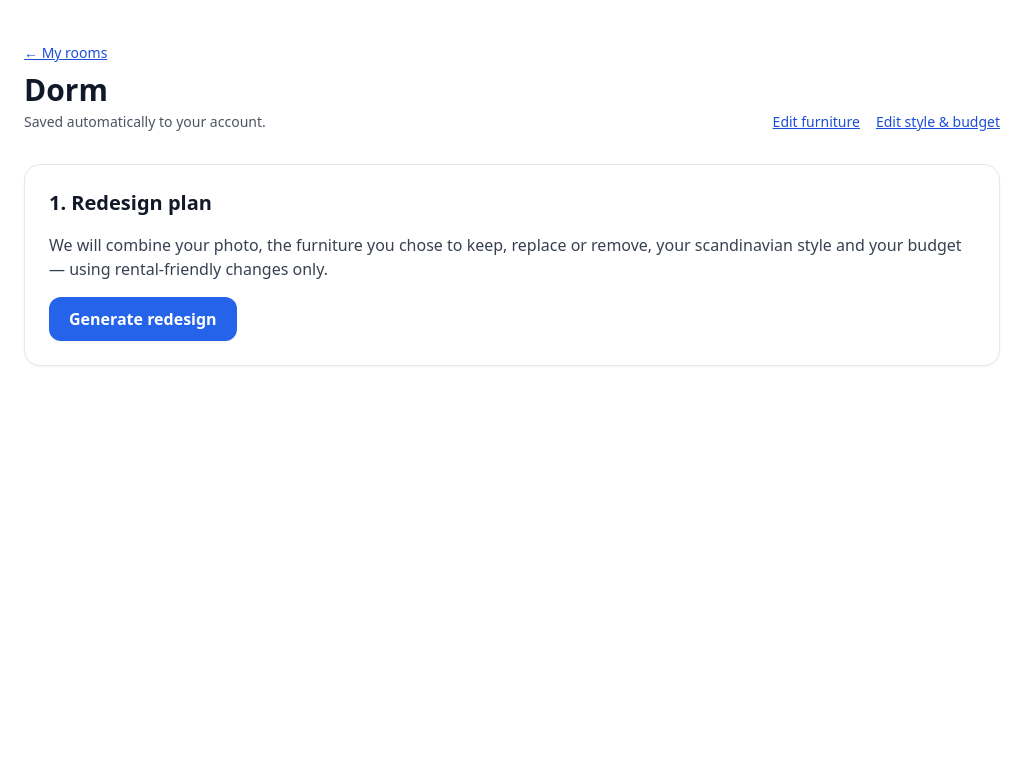
Test: Design workspace (MVP Features 6-10) › generates and explains the plan, budget and rental notes
Click the button "Generate redesign" at [143, 319], box [49,297,237,341]
(page scrolled)
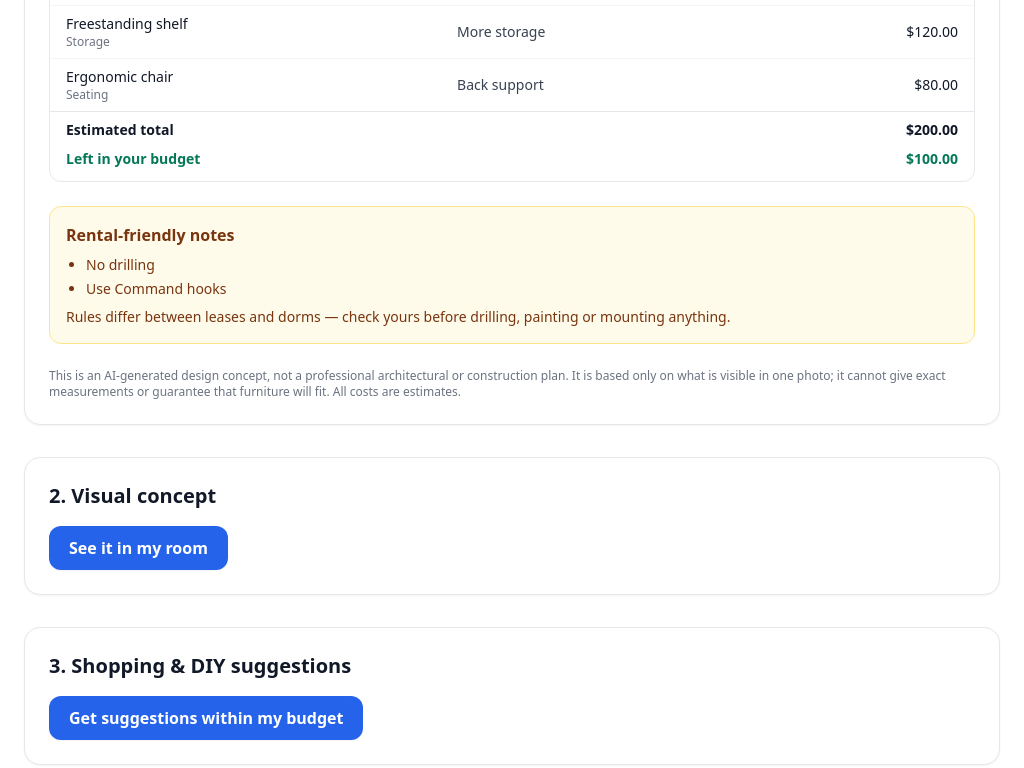
Expected: the text "$200.00" is shown, [747,112,974,148]
Expected: the text "Left in your budget" is shown, [50,148,747,181]
Expected: the list item "No drilling" is shown, [86,255,155,274]
